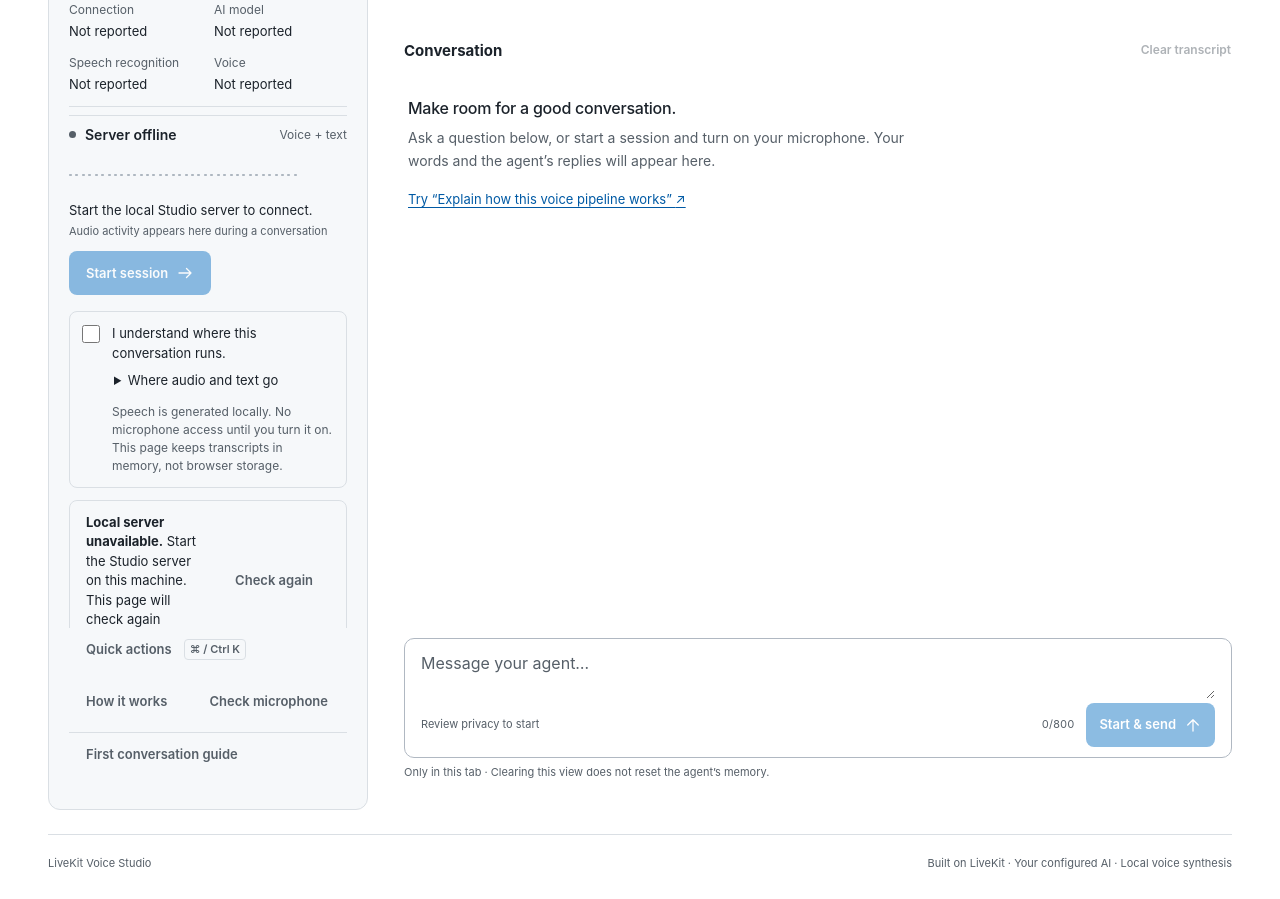
does not invent provider selections when learning while the server is offline
The width and height of the screenshot is (1280, 899).
(page scrolled)
What coordinates should you click on to do the following:
click the button "How it works"
I would click on:
 (127, 702)
Its box is [69,680,184,724].
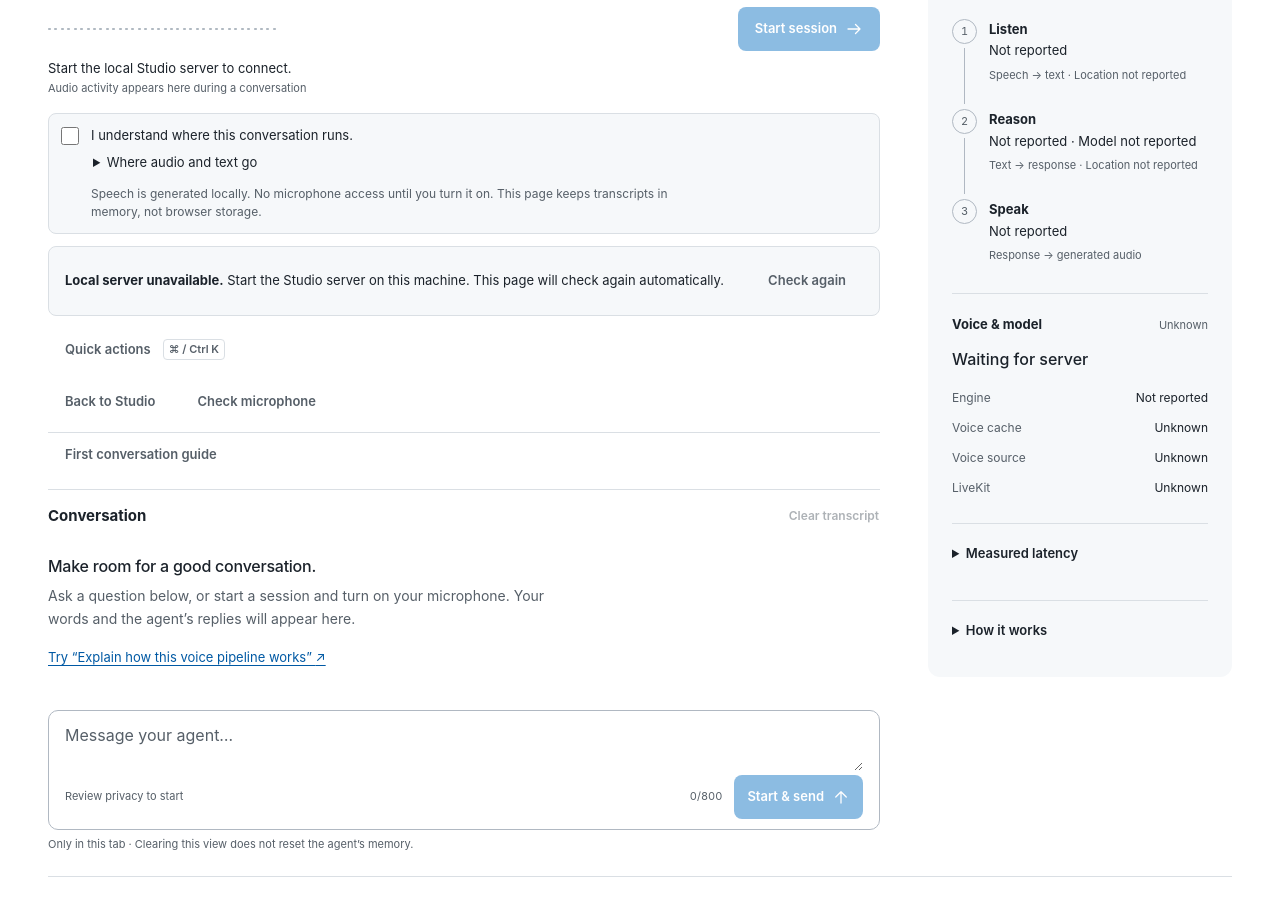
Now the list shows "Not reported", box [989,42,1067,58]
